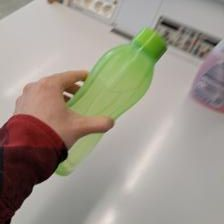bottle: (50, 26, 168, 181)
